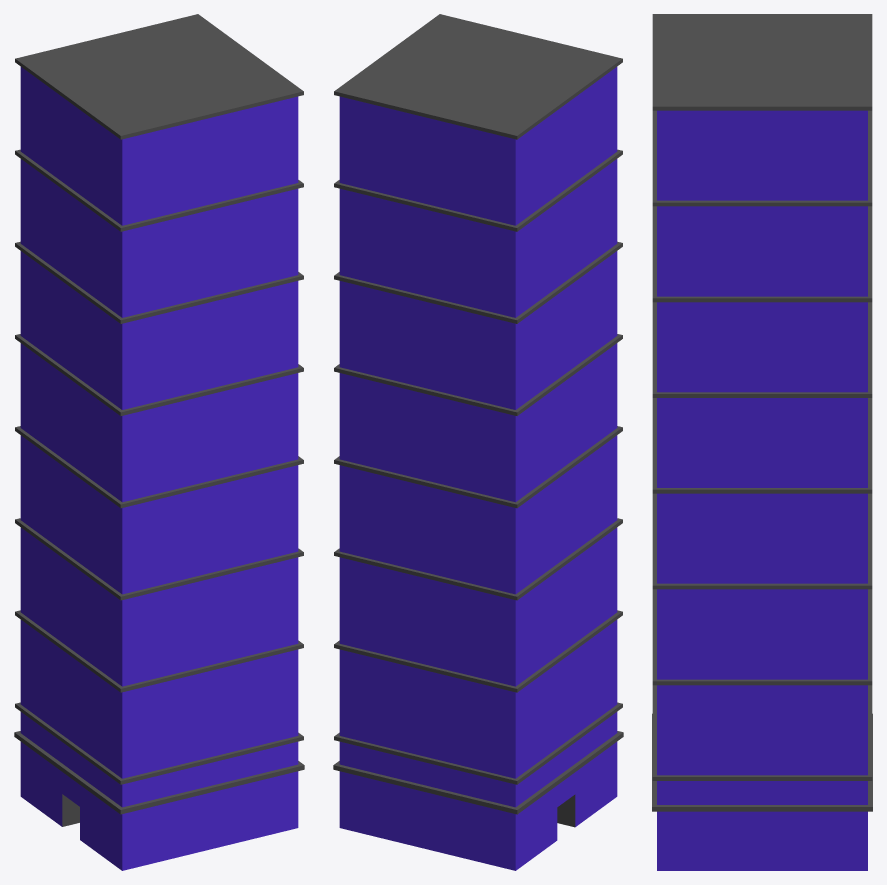
The model's file is SmallSkyscraper.fbx.
The picture shows the model from 3 angles, left to right: view 1: azimuth 30°, elevation 25°; view 2: azimuth 150°, elevation 25°; view 3: azimuth 270°, elevation 25°; orthographic projection. The views are drawn at different scales.
Parts seen in each view (by area): view 1: SmallSkyscraper; view 2: SmallSkyscraper; view 3: SmallSkyscraper.
Boxes of the visible parts, x1,y1,x2,y2 form: SmallSkyscraper: [14, 14, 304, 870]; SmallSkyscraper: [333, 14, 623, 870]; SmallSkyscraper: [652, 14, 872, 870].
Size of the model in its own units: 1254 by 1254 by 4800.
